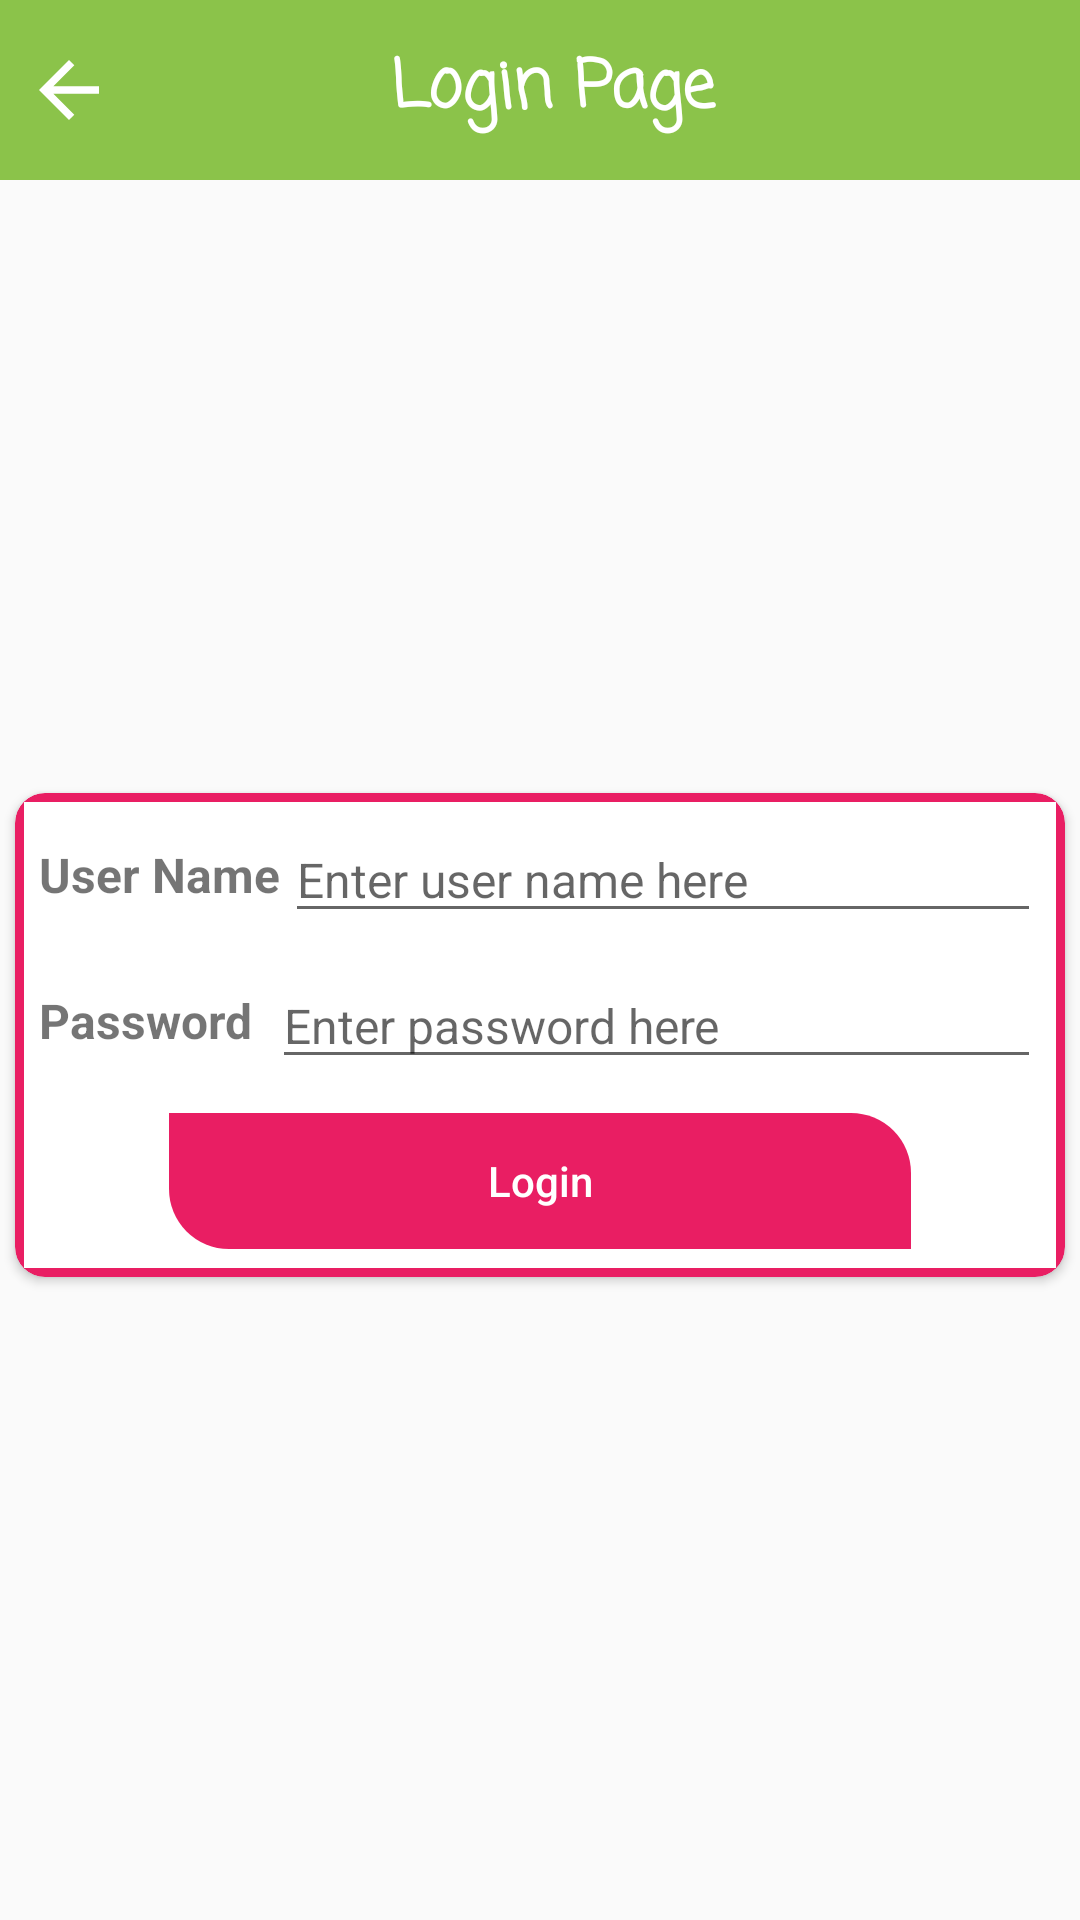

Locate icon controls on the screen. Image size 1080x1920, boxes as {"x1": x1, "y1": y1, "x2": x2, "y2": y2}.
back: {"x1": 39, "y1": 60, "x2": 99, "y2": 120}
